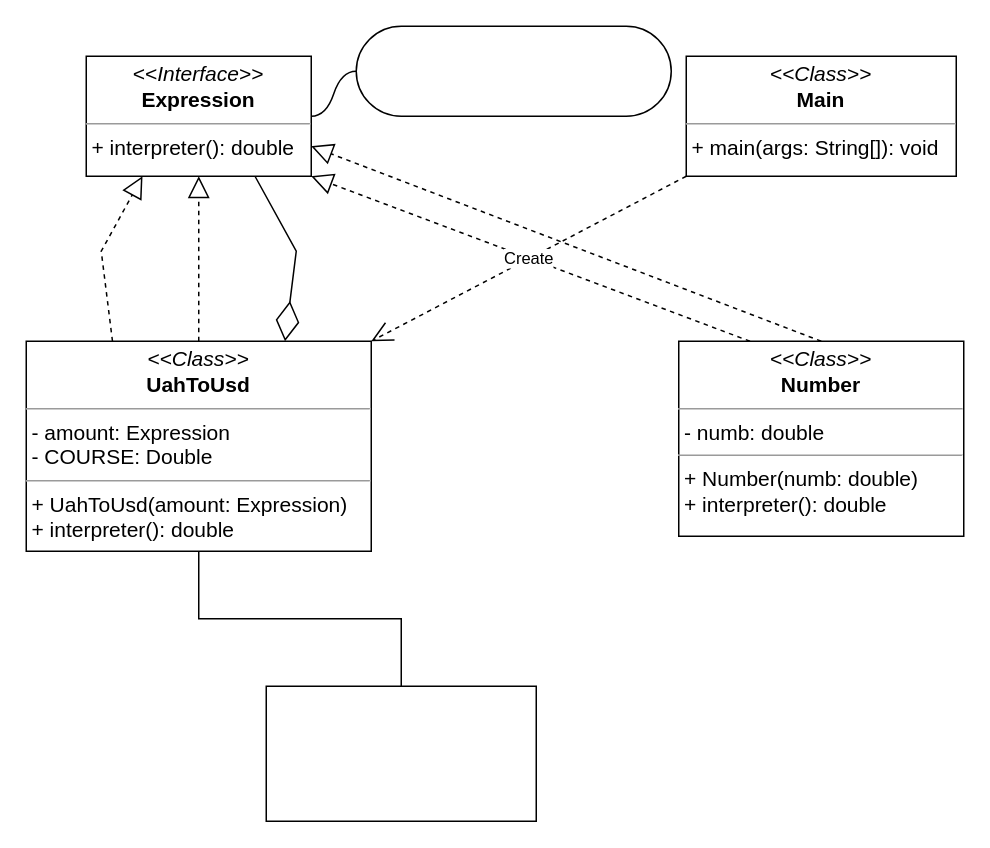
Some shapes in this 990 by 848 pixel diagram are drawn without their labels. The centre of each missing label's shape, as x and y in pixels:
Composite expression: Содержит и интерпретирует другое выражение: the point at 400,753
Interpreter pattern: Определяет интерфейс для интерпретации выражений: the point at 513,70
